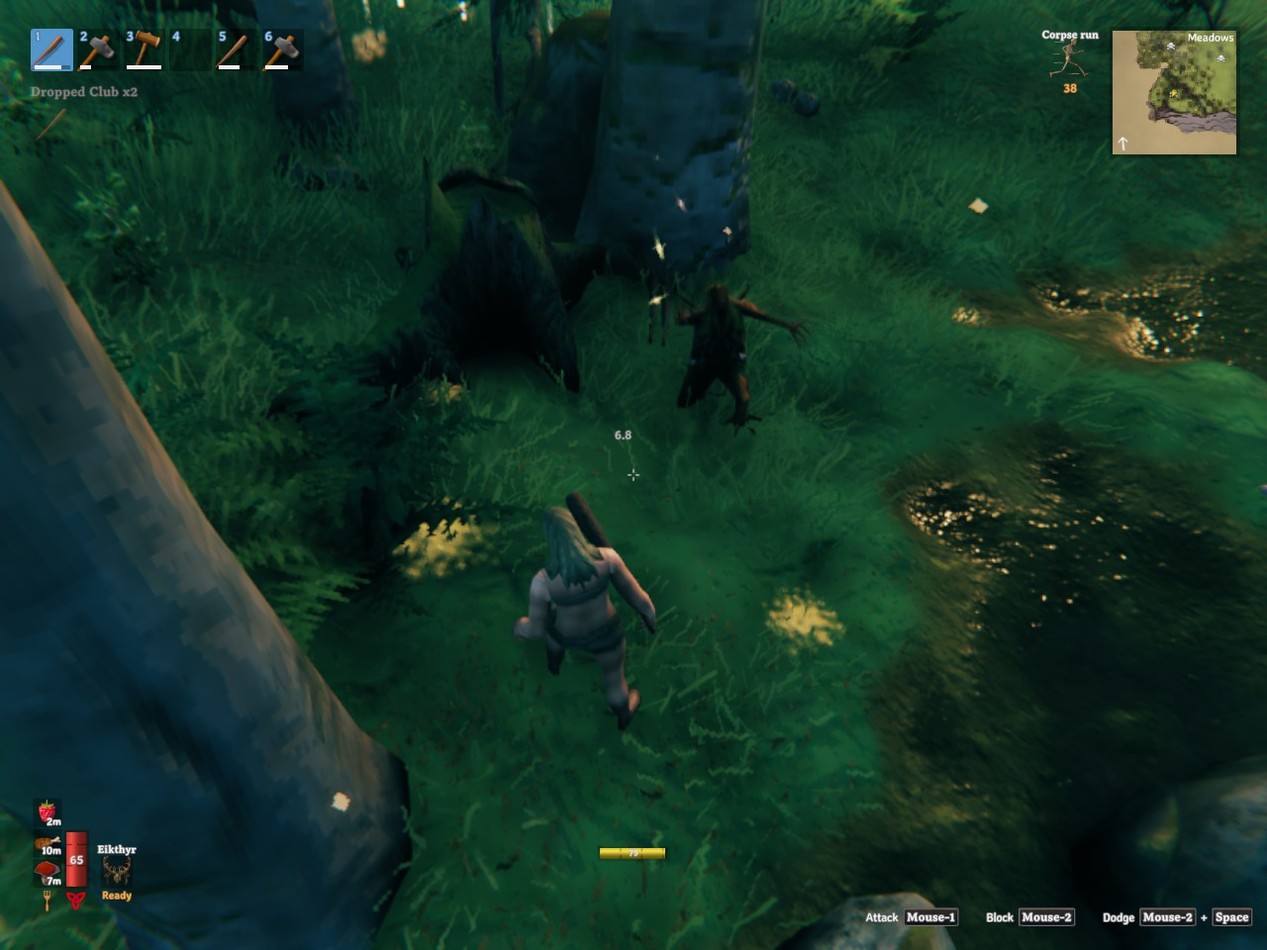Food Indicator: (36, 797, 63, 891)
Greyling: (677, 283, 806, 429)
Health Bar: (63, 820, 90, 891)
Hotbar: (25, 21, 398, 78)
Status Indicator: (1032, 27, 1111, 101)
Stone: (793, 92, 819, 116), (771, 78, 797, 102)
